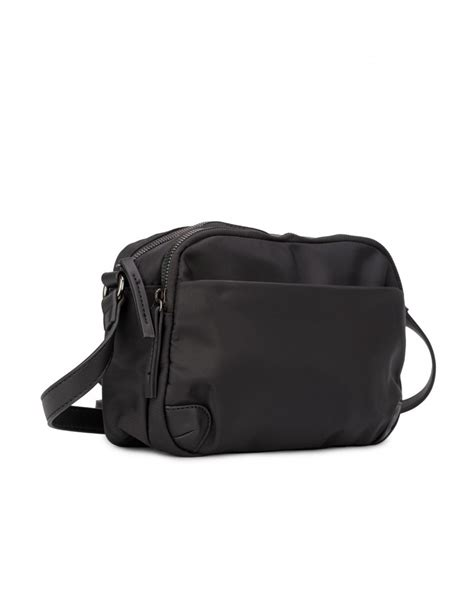nylon: (104, 220, 405, 457)
